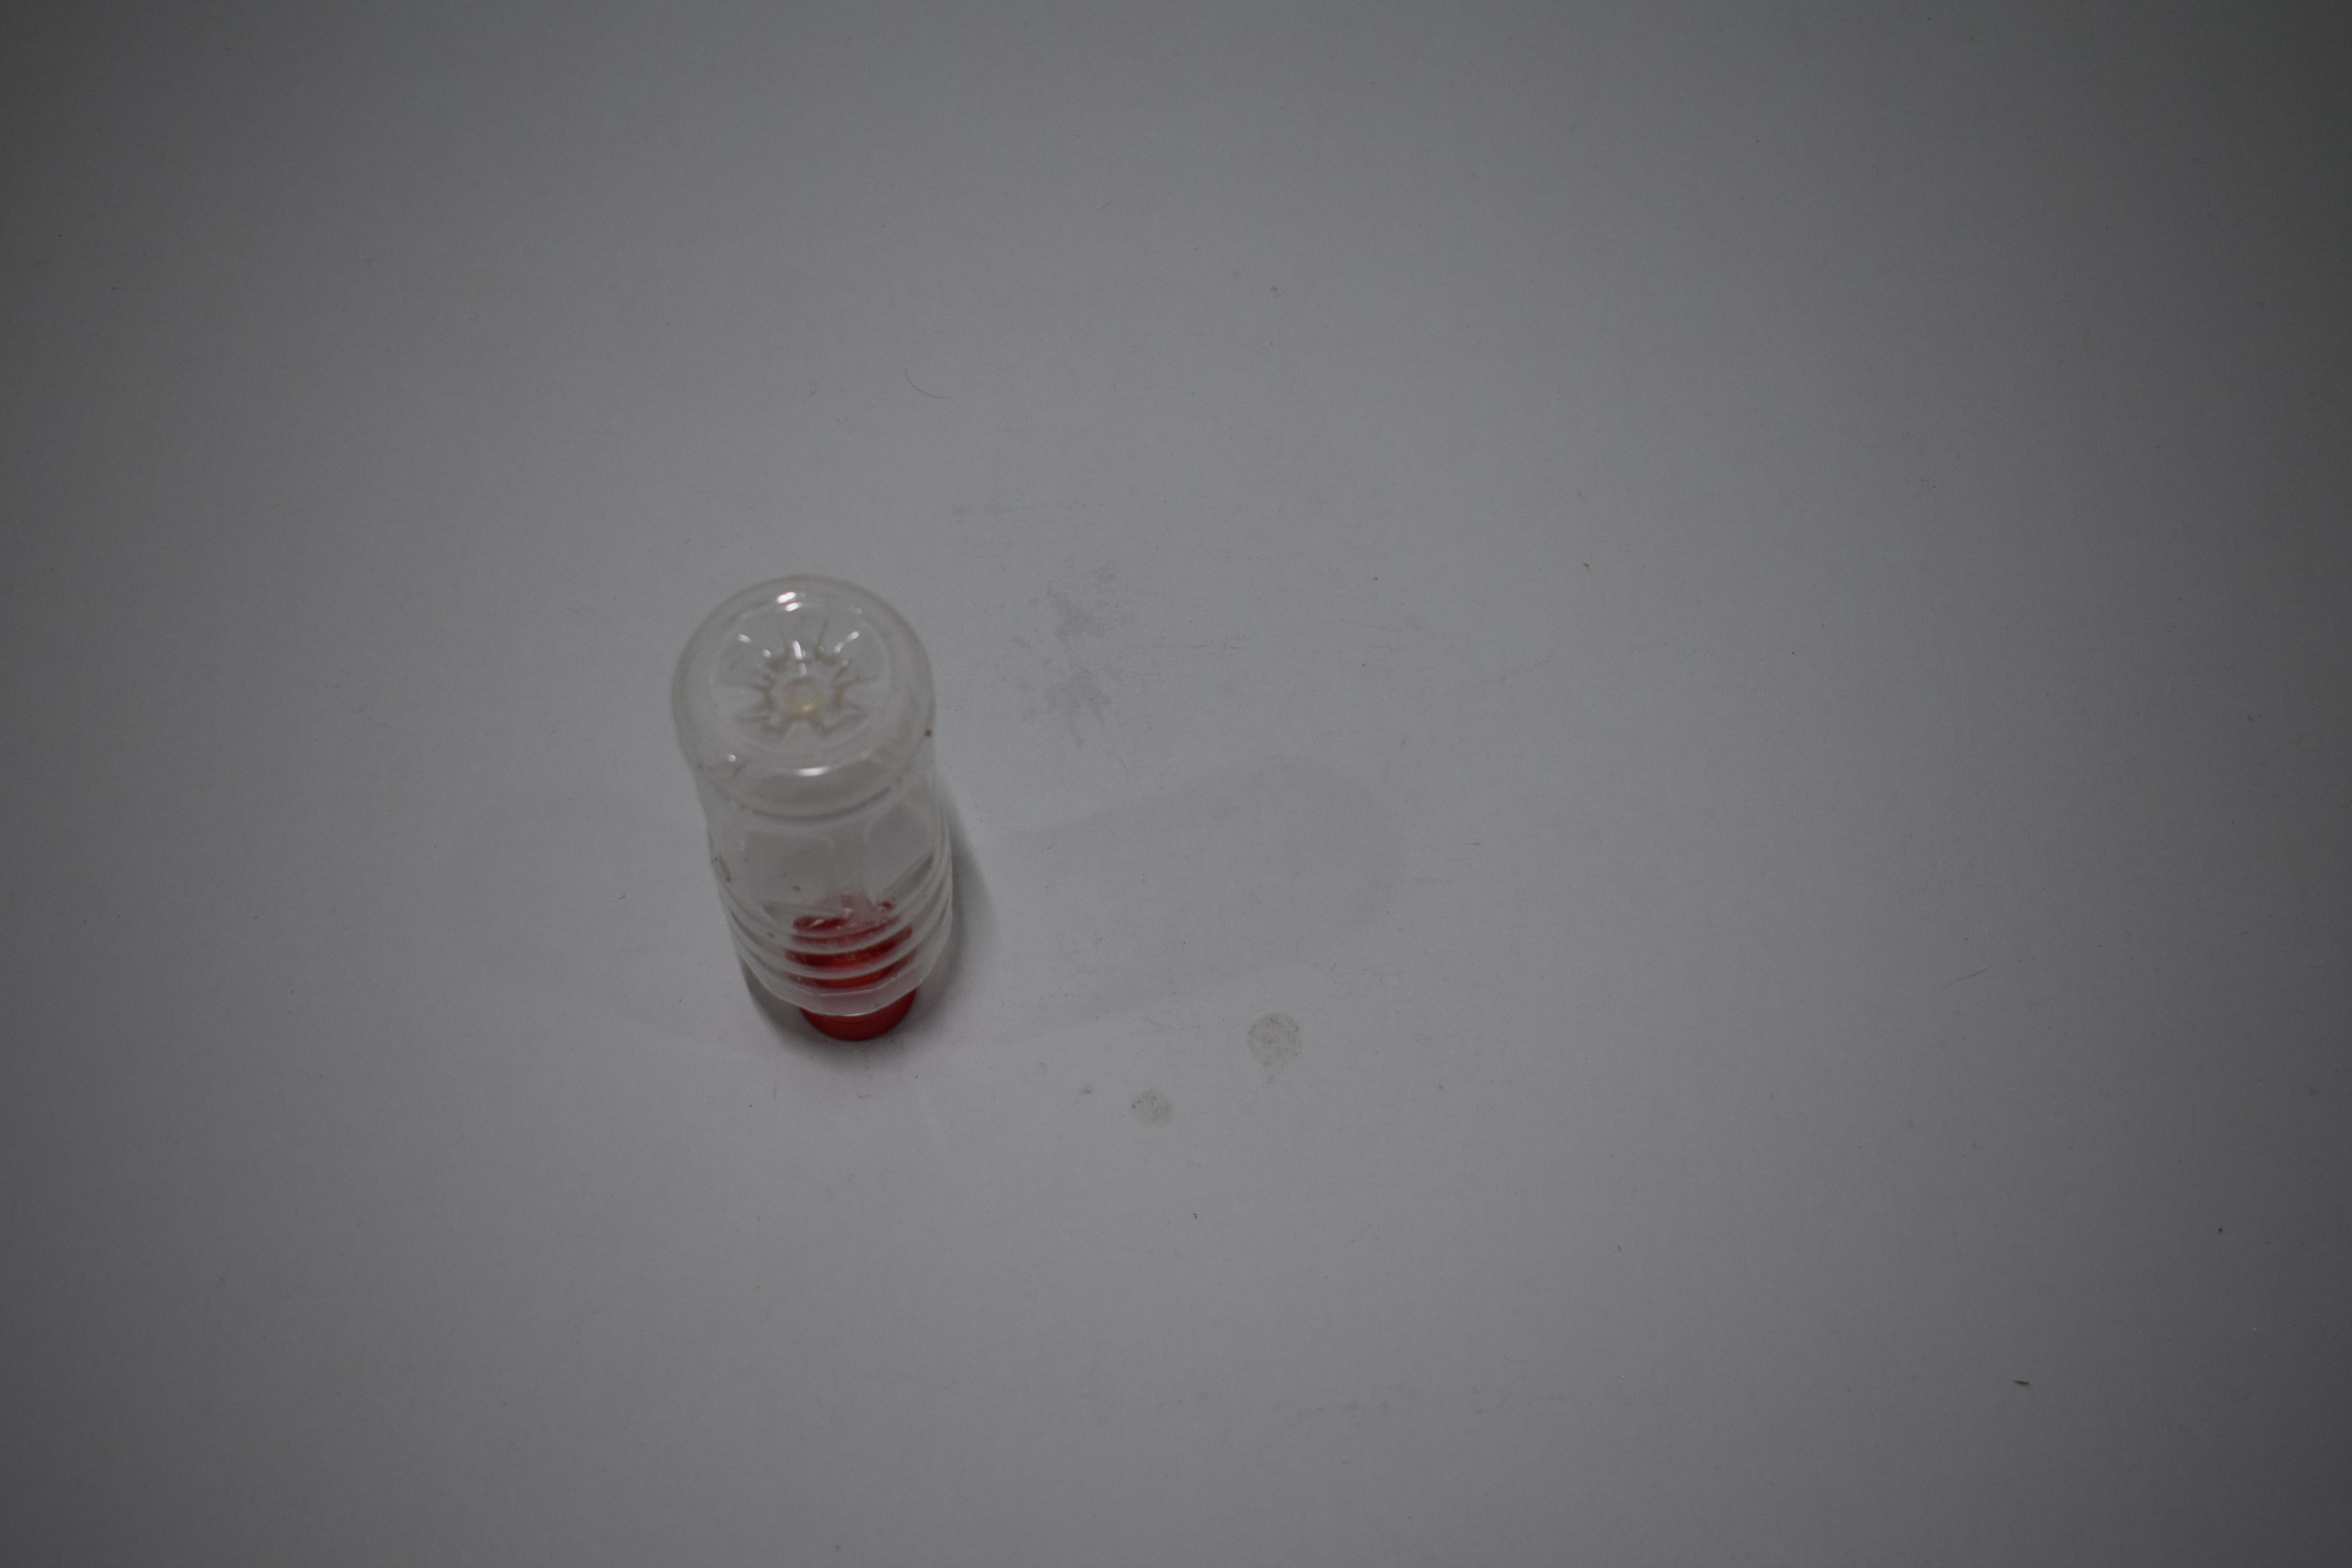bottle: (658, 0, 973, 262)
